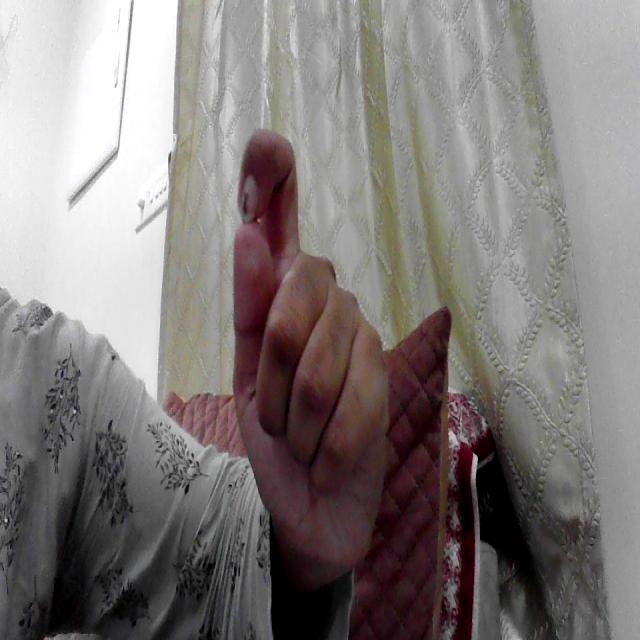Kapittha: (213, 128, 394, 601)
